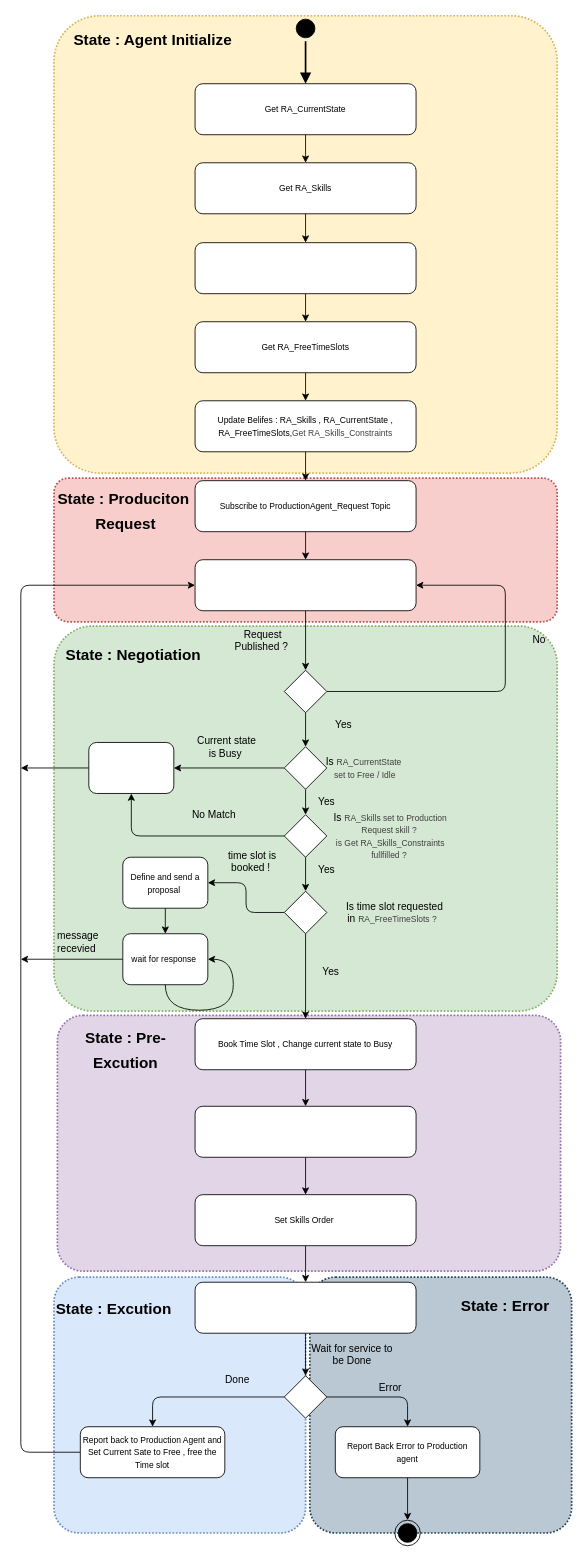
The diagram is 587 pixels wide and 1561 high, and some of its shapes have lost their labels. Each missing label, with the centre of its shape:
Break Production Agent to Skills: point (305, 1131)
Get RA_Skills_Constraints: point (305, 268)
Inform Production Agent: point (131, 767)
Invoke Skills: point (305, 1307)
Wait for Production Agent to Publish request: point (305, 585)
